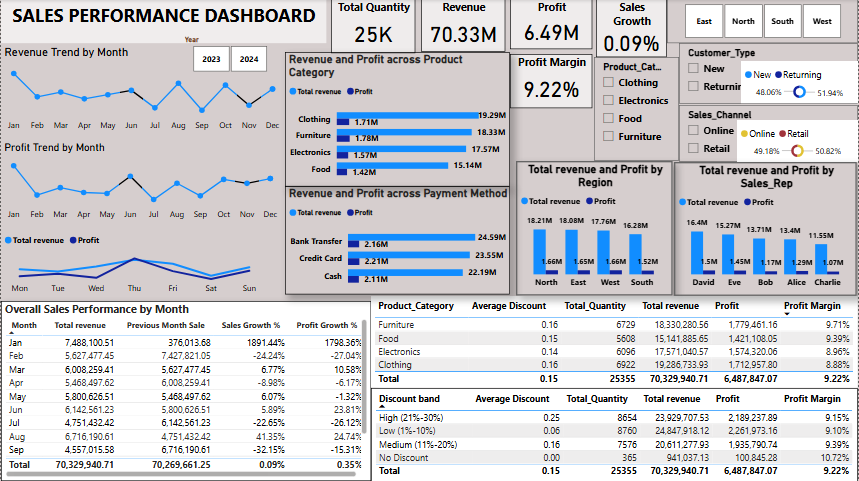

Layout of this report page (visuals, bound fields, positions):
{"tool":"powerbi","page":{"name":"Page 1","canvas":[1280,720],"ordinal":0},"visuals":[{"type":"card","title":"Sales Growth","fields":{"Values":["sales_data (1).Sales Growth %"]},"box":[889,0,105.8,86.7],"z":0},{"type":"slicer","fields":{"Values":["sales_data (1).Customer_Type"]},"box":[1012.4,66.1,267.4,91.1],"z":0,"group":"g1"},{"type":"clusteredColumnChart","fields":{"Category":["sales_data (1).Region"],"Y":["sales_data (1).Total revenue 2","sales_data (1).Profit"]},"box":[770,242.4,233.6,201.3],"z":0,"group":"g3"},{"type":"clusteredBarChart","title":"Revenue  and Profit across Payment Method","fields":{"Category":["sales_data (1).Payment_Method"],"Y":["sales_data (1).Total revenue 2","sales_data (1).Profit"]},"box":[424.2,280.1,336.5,162.1],"z":0,"group":"g2"},{"type":"card","title":"Profit","fields":{"Values":["sales_data (1).Profit"]},"box":[759.7,0,123.4,74.9],"z":1000},{"type":"clusteredBarChart","title":"Revenue  and Profit across Product Category","fields":{"Category":["sales_data (1).Product_Category"],"Y":["sales_data (1).Total revenue 2","sales_data (1).Profit"]},"box":[424.2,79.2,336.5,200.9],"z":1000,"group":"g2"},{"type":"slicer","fields":{"Values":["sales_data (1).Sales_Channel"]},"box":[1012.4,158.7,267.4,85.2],"z":1000,"group":"g1"},{"type":"clusteredColumnChart","fields":{"Category":["sales_data (1).Sales_Rep"],"Y":["sales_data (1).Total revenue 2","sales_data (1).Profit"]},"box":[1006.4,243.9,273.5,199.8],"z":1000,"group":"g3"},{"type":"card","title":"Profit Margin","fields":{"Values":["sales_data (1).Profit Margin"]},"box":[759.7,82.3,123.4,80.8],"z":2000},{"type":"donutChart","title":"Revenue by Sales_Channel","fields":{"Category":["sales_data (1).Sales_Channel"],"Y":["sales_data (1).Total revenue 2"]},"box":[1098.5,180.5,180.7,63.2],"z":2000,"group":"g1"},{"type":"card","title":"Revenue","fields":{"Values":["sales_data (1).Total revenue 2"]},"box":[627.4,0,126.4,79.3],"z":3000},{"type":"donutChart","title":"Revenue by Customer_Type","fields":{"Y":["sales_data (1).Total revenue 2"],"Category":["sales_data (1).Customer_Type"]},"box":[1104.4,92.4,174.9,63.2],"z":3000,"group":"g1"},{"type":"tableEx","title":"Overall Sales Performance by Month","fields":{"Values":["Calander.Month","sales_data (1).Total revenue 2","sales_data (1).Previous Month Sale","sales_data (1).Sales Growth %","sales_data (1).Profit Growth %"]},"box":[0,451.1,552.7,268.9],"z":4000},{"type":"card","title":"Total Quantity","fields":{"Values":["sales_data (1).Total_Quantity"]},"box":[492.2,0,126.4,80.8],"z":5000},{"type":"textbox","box":[0,0,486.4,66.1],"z":6000},{"type":"slicer","fields":{"Values":["sales_data (1).Region"]},"box":[994.8,0,285.1,66.1],"z":7000},{"type":"slicer","fields":{"Values":["Calander.Year"]},"box":[261.6,50,160.2,66.1],"z":8000},{"type":"slicer","fields":{"Values":["sales_data (1).Product_Category"]},"box":[885.8,86.6,127,155.4],"z":9000},{"type":"lineChart","title":"Revenue Trend by Month","fields":{"Category":["Calander.Month"],"Y":["sales_data (1).Total revenue 2"]},"box":[0,69.1,424.7,138],"z":10000},{"type":"lineChart","title":"Weekly Revenue Trend ","fields":{"Category":["Calander.DAY"],"Y":["sales_data (1).Total revenue 2"],"Y2":["sales_data (1).Profit"]},"box":[0,340.6,398.8,110],"z":11000},{"type":"lineChart","title":"Profit Trend by Month","fields":{"Y":["sales_data (1).Profit"],"Category":["Calander.Month"]},"box":[0,212.1,421.2,128],"z":12000},{"type":"group","id":"g1","title":"Group 1","box":[1012.4,66.1,267.4,177.8],"z":13000},{"type":"tableEx","fields":{"Values":["sales_data (1).Discount band","sales_data (1).Average Discount","sales_data (1).Total_Quantity","sales_data (1).Total revenue 2","sales_data (1).Profit","sales_data (1).Profit Margin"]},"box":[552.5,580.4,727.3,139.6],"z":14000},{"type":"tableEx","fields":{"Values":["sales_data (1).Product_Category","sales_data (1).Average Discount","sales_data (1).Total_Quantity","sales_data (1).Total revenue 2","sales_data (1).Profit","sales_data (1).Profit Margin"]},"box":[552.5,443.8,727.3,137],"z":15000},{"type":"group","id":"g2","title":"Group 2","box":[424.2,79.2,337.6,363],"z":16000},{"type":"group","id":"g3","title":"Group 3","box":[770,242.4,509.9,201.3],"z":17000}]}

Visuals, with their boxes in screenshot pixels (x1, y1, x2, y2), scaled from the page's 1280x720 canvas onto the 859x481 screenshot:
"Sales Growth" card: [left=597, top=0, right=668, bottom=58]
slicer - sales_data (1).Customer_Type: [left=679, top=44, right=858, bottom=105]
clusteredColumnChart - sales_data (1).Region x sales_data (1).Total revenue 2: [left=517, top=162, right=674, bottom=296]
"Revenue  and Profit across Payment Method" clusteredBarChart: [left=285, top=187, right=511, bottom=295]
"Profit" card: [left=510, top=0, right=593, bottom=50]
"Revenue  and Profit across Product Category" clusteredBarChart: [left=285, top=53, right=511, bottom=187]
slicer - sales_data (1).Sales_Channel: [left=679, top=106, right=858, bottom=163]
clusteredColumnChart - sales_data (1).Sales_Rep x sales_data (1).Total revenue 2: [left=675, top=163, right=858, bottom=296]
"Profit Margin" card: [left=510, top=55, right=593, bottom=109]
"Revenue by Sales_Channel" donutChart: [left=737, top=121, right=858, bottom=163]
"Revenue" card: [left=421, top=0, right=506, bottom=53]
"Revenue by Customer_Type" donutChart: [left=741, top=62, right=858, bottom=104]
"Overall Sales Performance by Month" tableEx: [left=0, top=301, right=371, bottom=480]
"Total Quantity" card: [left=330, top=0, right=415, bottom=54]
textbox: [left=0, top=0, right=326, bottom=44]
slicer - sales_data (1).Region: [left=668, top=0, right=858, bottom=44]
slicer - Calander.Year: [left=176, top=33, right=283, bottom=78]
slicer - sales_data (1).Product_Category: [left=594, top=58, right=680, bottom=162]
"Revenue Trend by Month" lineChart: [left=0, top=46, right=285, bottom=138]
"Weekly Revenue Trend " lineChart: [left=0, top=228, right=268, bottom=301]
"Profit Trend by Month" lineChart: [left=0, top=142, right=283, bottom=227]
"Group 1" group: [left=679, top=44, right=858, bottom=163]
tableEx - sales_data (1).Discount band x sales_data (1).Average Discount: [left=371, top=388, right=858, bottom=480]
tableEx - sales_data (1).Product_Category x sales_data (1).Average Discount: [left=371, top=296, right=858, bottom=388]
"Group 2" group: [left=285, top=53, right=511, bottom=295]
"Group 3" group: [left=517, top=162, right=858, bottom=296]
